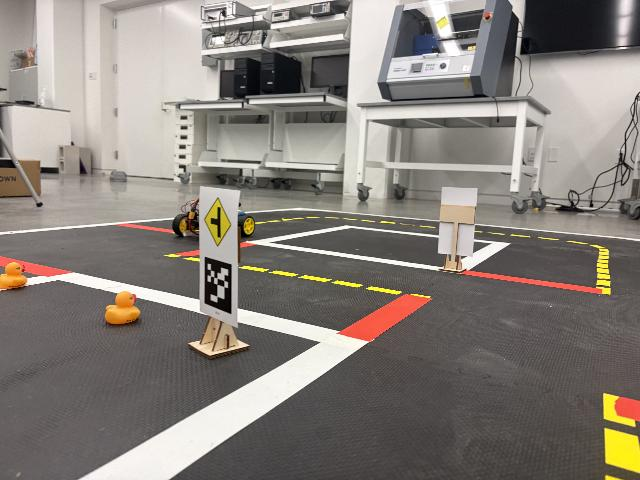duck: (100, 290, 142, 329), (1, 261, 25, 290)
l_intersection: (204, 195, 231, 246)
redline: (340, 292, 432, 342), (458, 269, 602, 295), (0, 257, 72, 278), (179, 243, 254, 256), (615, 396, 640, 420), (115, 223, 174, 232)
whiteline: (82, 341, 372, 479), (57, 272, 374, 341), (298, 207, 640, 241), (249, 242, 444, 271), (2, 217, 177, 237), (349, 225, 511, 245), (248, 225, 350, 242), (463, 243, 513, 270), (0, 272, 65, 291)
yellowline: (185, 258, 432, 299), (325, 216, 603, 252), (603, 394, 640, 480), (256, 213, 317, 228), (595, 245, 612, 296)
